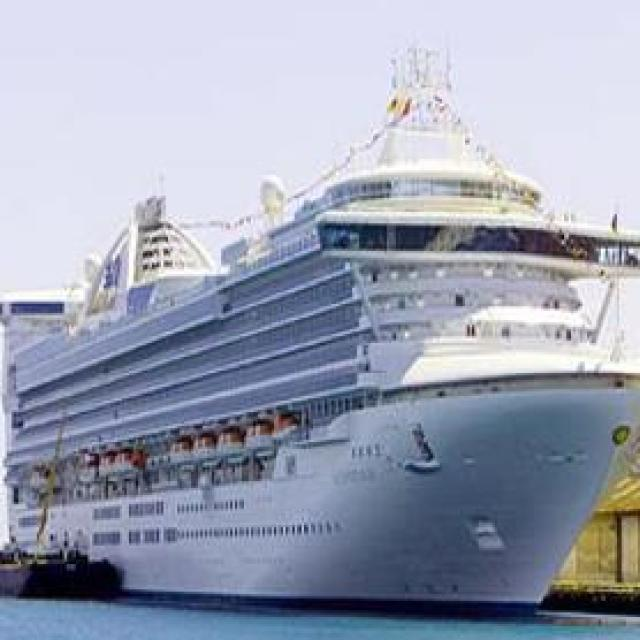fishing boat: (0, 500, 145, 612)
passenger ship: (2, 55, 640, 608)
